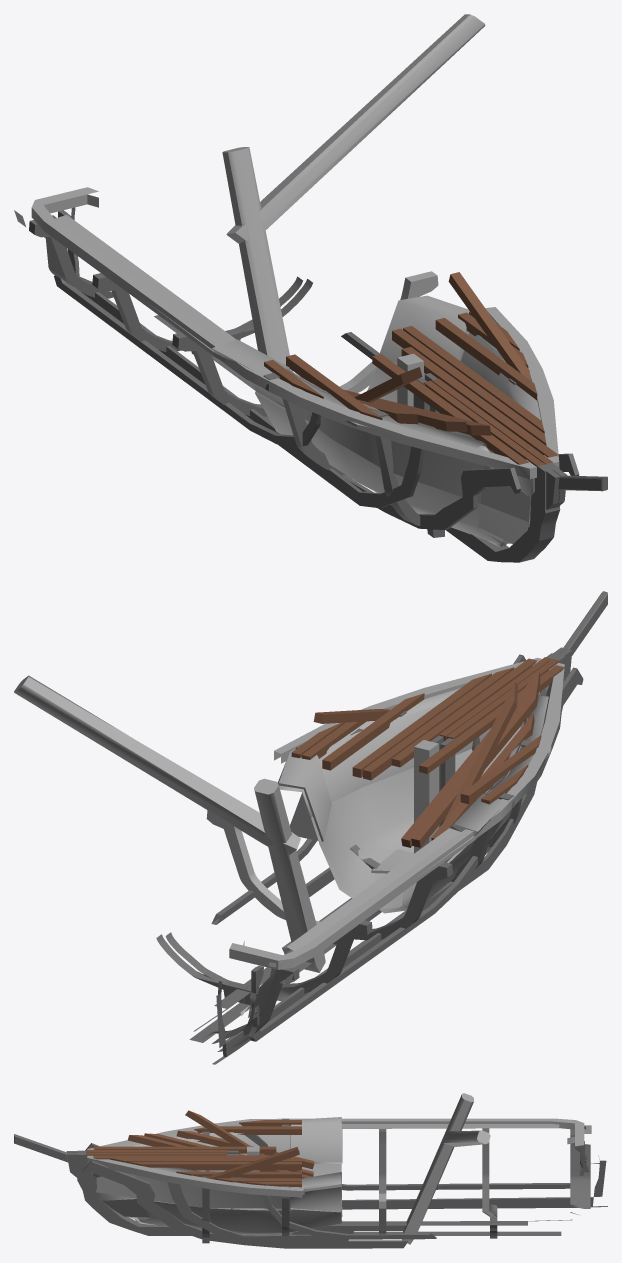
The model's file is Destroyed Boat.fbx.
3 renders of one model, top to bottom at view 1: azimuth 30°, elevation 25°; view 2: azimuth 150°, elevation 25°; view 3: azimuth 270°, elevation 25°, orthographic. The views are drawn at different scales.
Visible parts, largest first — view 1: polySurface105; view 2: polySurface105; view 3: polySurface105.
Part boxes in pixels (bbox=[...]): polySurface105: bbox=[14, 14, 607, 562]; polySurface105: bbox=[14, 591, 607, 1064]; polySurface105: bbox=[14, 1093, 607, 1248].
Size of the model in its own units: 22.41 by 16.56 by 48.15.
